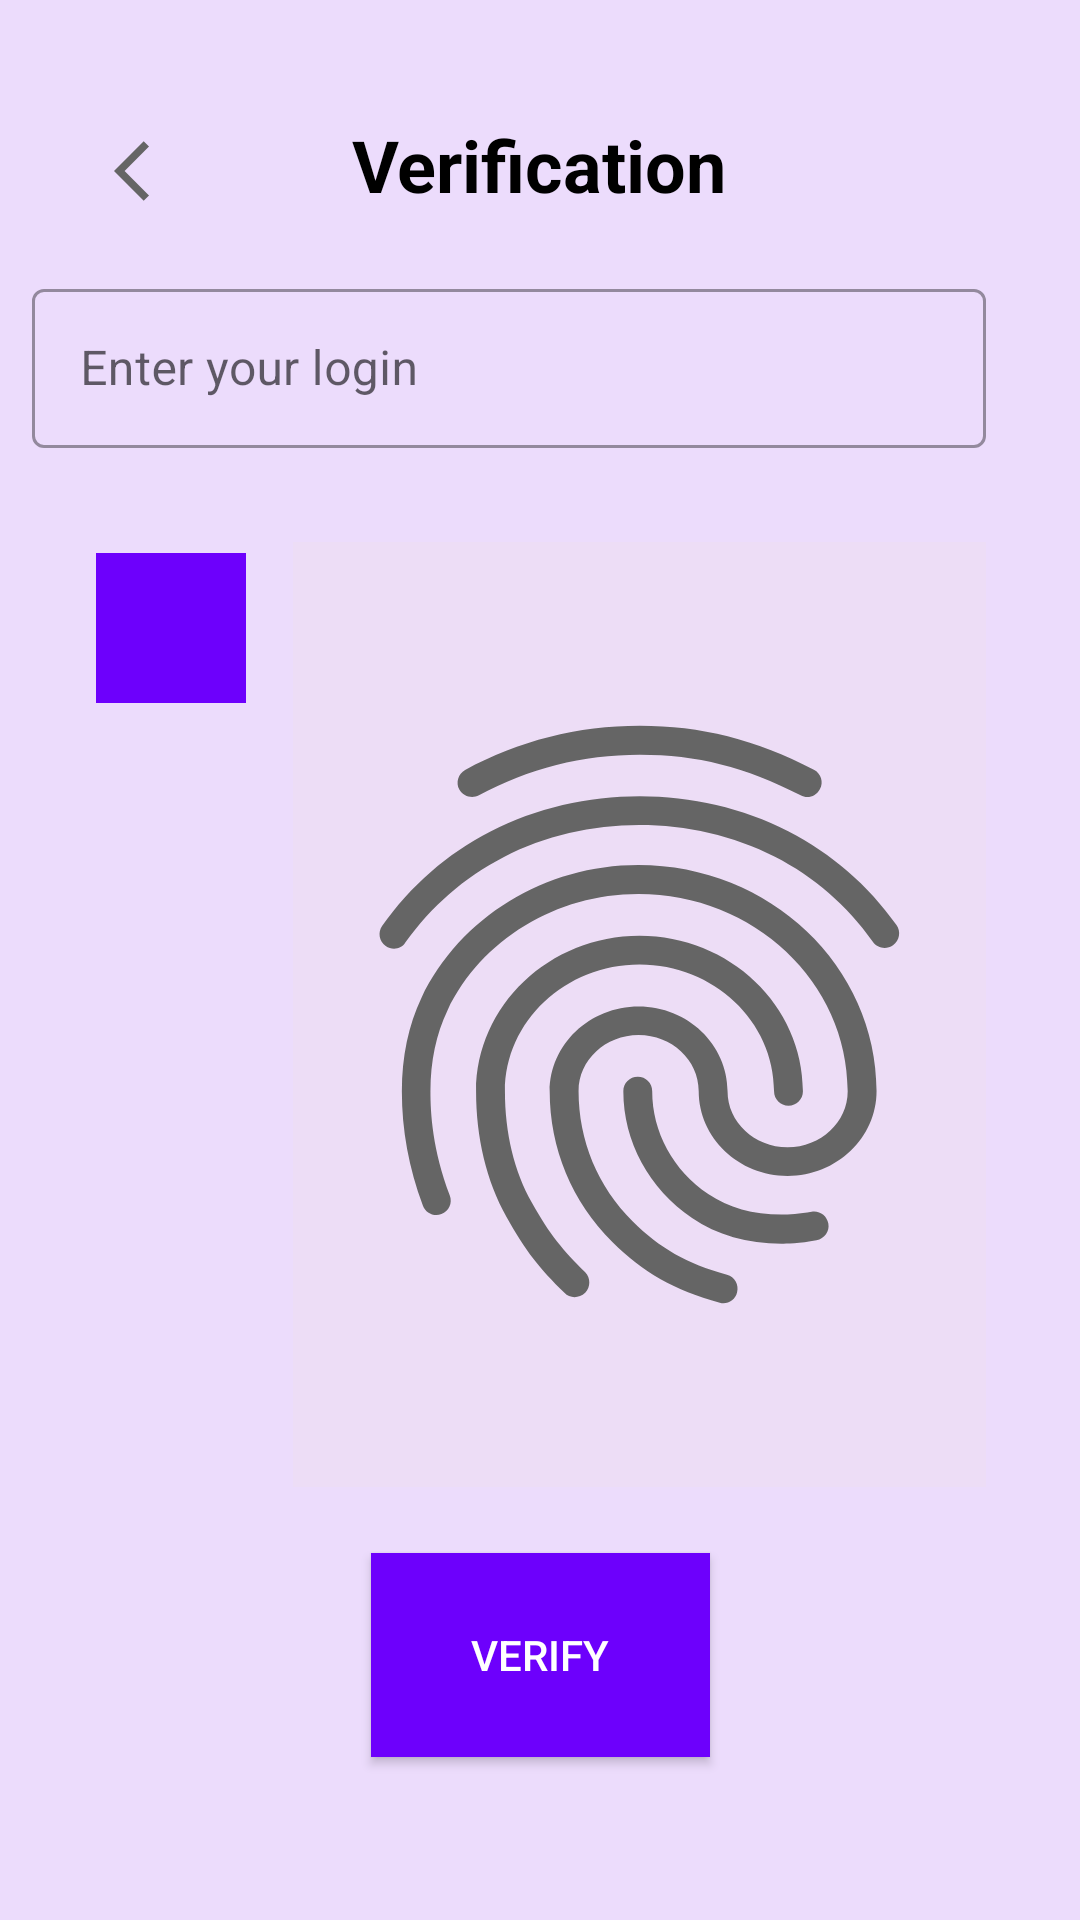

Icon click points for this 1080w x 1920h phone screenshot, format [x,y]:
back arrow: [131,171]
